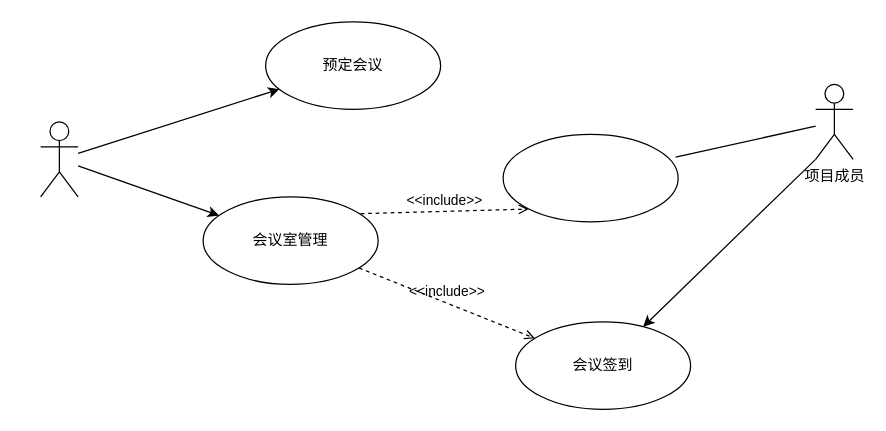
Some shapes in this 886 by 431 pixel diagram are drawn without their labels. Each missing label, with the box of its shape:
会议主持人: (39, 121, 78, 197)
添加与会人员: (502, 133, 678, 222)
